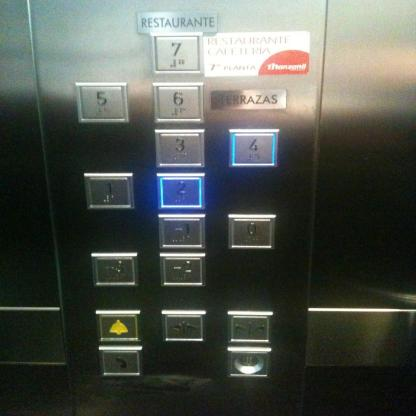-1: (156, 212, 207, 252)
-2: (157, 252, 206, 288)
-3: (88, 250, 138, 286)
0: (226, 212, 277, 252)
1: (82, 171, 134, 214)
2: (156, 170, 206, 212)
3: (152, 126, 204, 171)
4: (227, 126, 278, 171)
5: (74, 80, 130, 126)
6: (151, 82, 207, 127)
7: (148, 30, 204, 76)
alarm: (95, 309, 140, 344)
bt_keyhole: (227, 348, 271, 378)
call: (98, 346, 143, 377)
close: (225, 310, 274, 346)
open: (160, 309, 206, 345)
